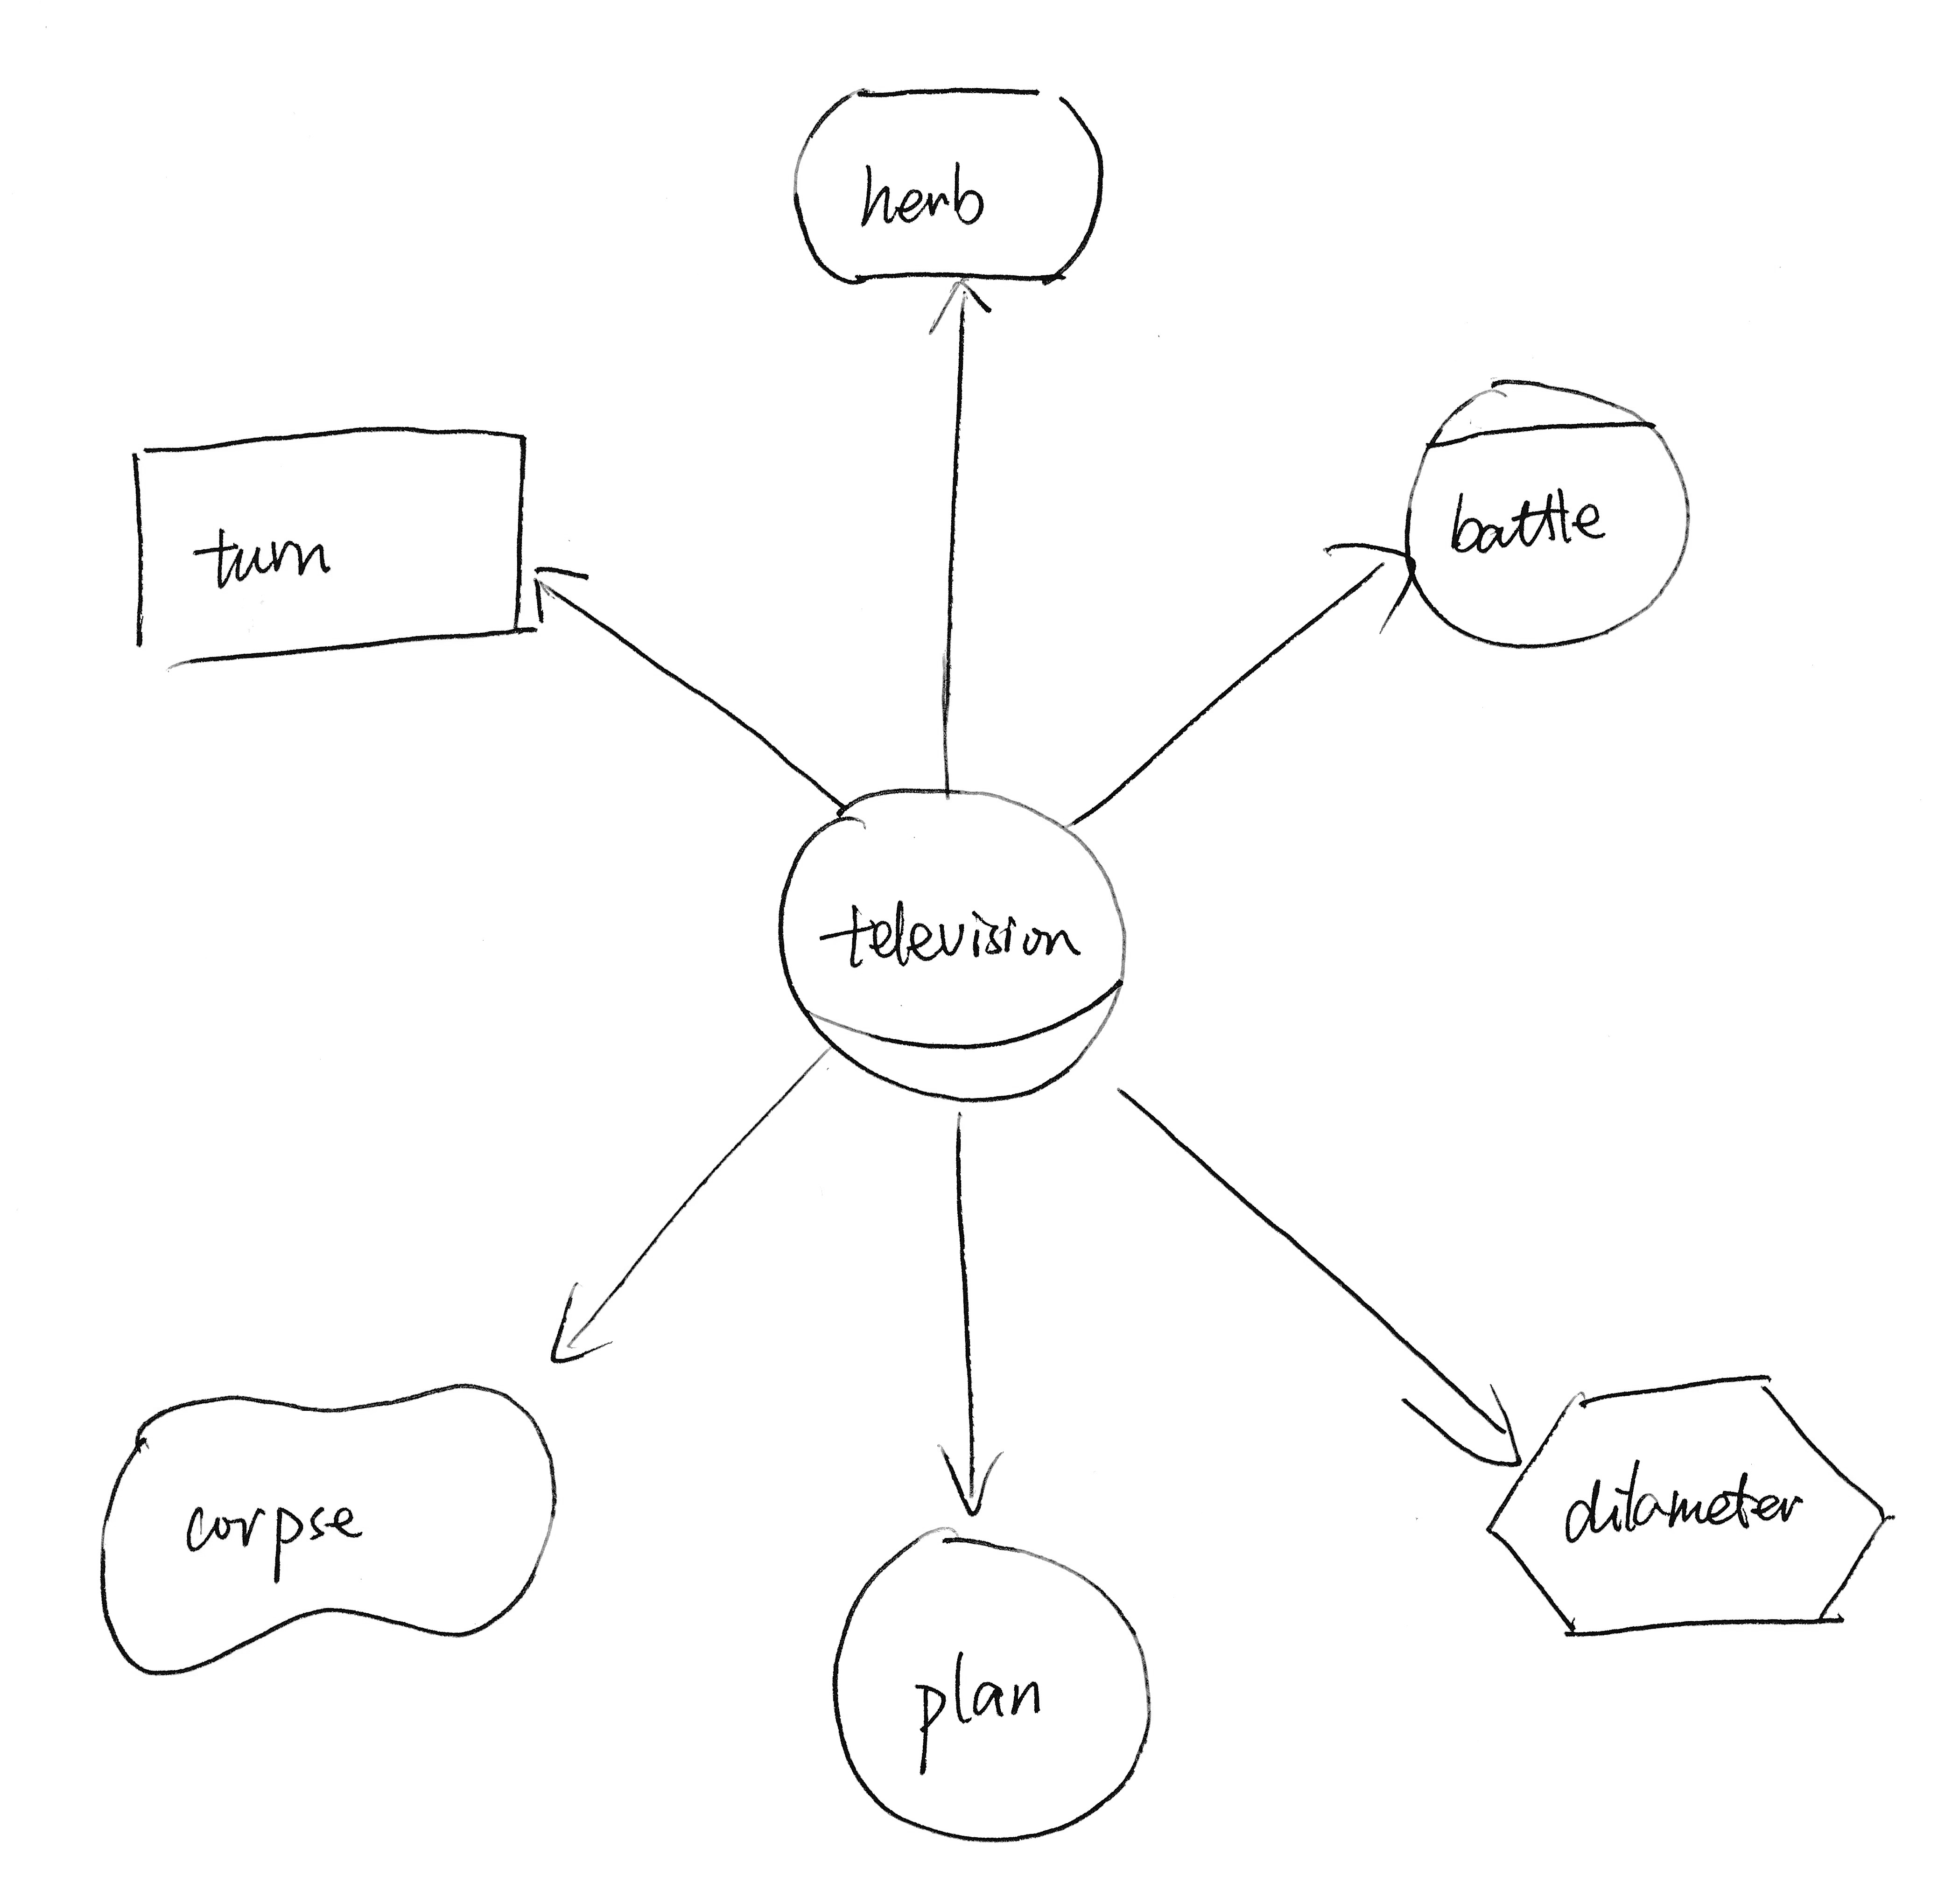actor: (818, 1512, 1169, 1857)
agent: (1390, 357, 1701, 661)
arrow: (1392, 1337, 1528, 1482), (1307, 521, 1422, 650), (904, 1414, 1017, 1536), (532, 1264, 621, 1384), (518, 549, 605, 638), (923, 272, 1003, 345)
goal: (778, 70, 1120, 305)
quality: (78, 1360, 576, 1691)
resource: (110, 405, 546, 678)
role: (764, 774, 1137, 1118)
task: (1471, 1363, 1905, 1656)
